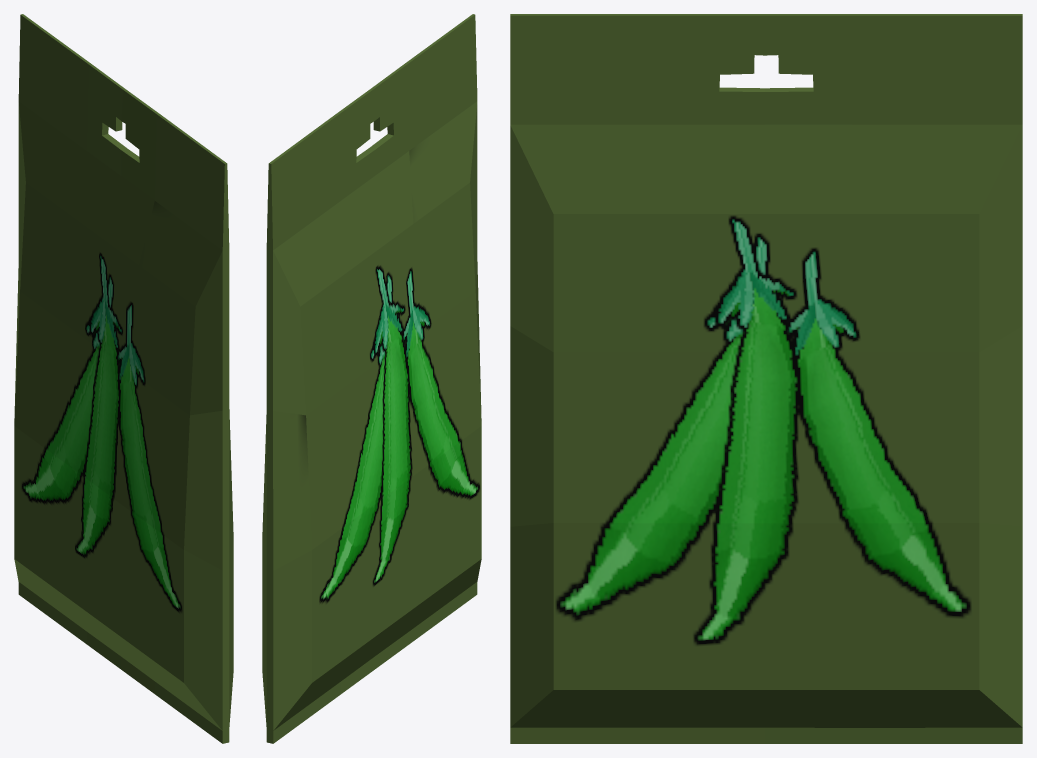
File: pea_seedpack.glb
3 views of the same model, side by side, from view 1: azimuth 30°, elevation 25°; view 2: azimuth 150°, elevation 25°; view 3: azimuth 270°, elevation 25° (orthographic). The views are drawn at different scales.
Visible parts, largest first — view 1: Cube; view 2: Cube; view 3: Cube.
Boxes of the visible parts, <box> form: Cube: <box>14,14,233,743</box>; Cube: <box>262,14,481,743</box>; Cube: <box>510,14,1022,743</box>.
Bounding box in the file's own units: 0.0437 × 0.4872 × 0.3113.
Materials: 1 (1 with a texture image).
